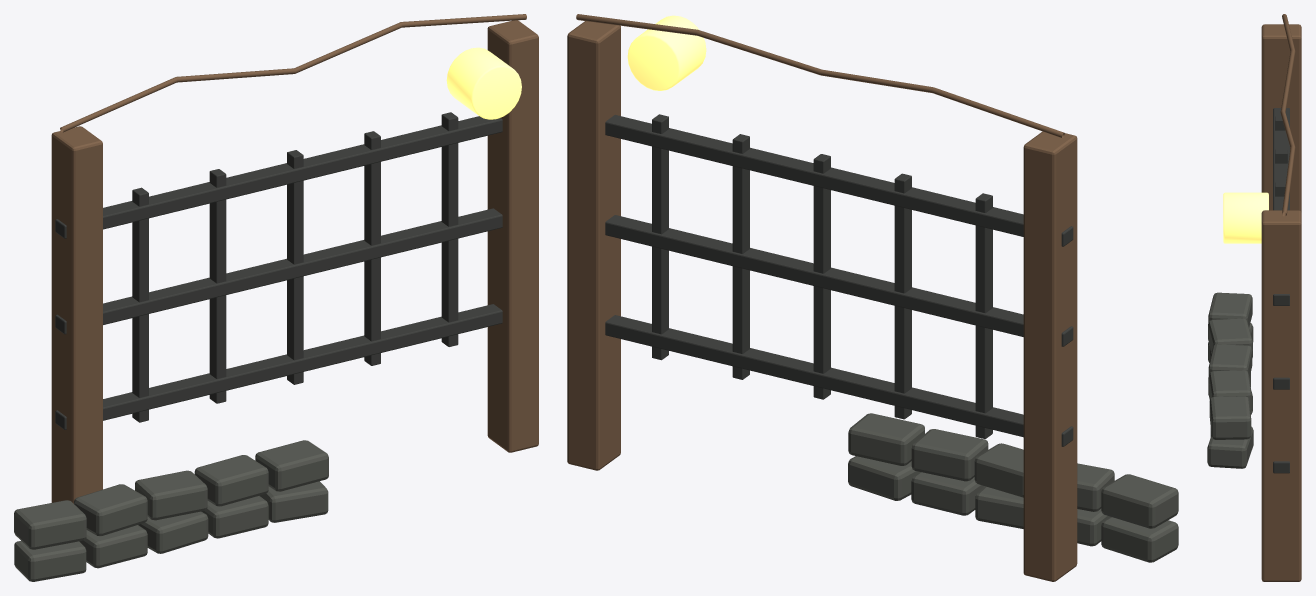
File: dz_military_checkpoint_gate.glb
3 renders of one model, left to right at view 1: azimuth 30°, elevation 25°; view 2: azimuth 150°, elevation 25°; view 3: azimuth 270°, elevation 25°, orthographic. The views are drawn at different scales.
Parts seen in each view (by area): view 1: checkpoint_right_post, checkpoint_left_post, sliding_gate_bar_1.55, sliding_gate_bar_0.9, sliding_gate_bar_2.2, checkpoint_sweeping_projector, vertical_gate_rod_4, vertical_gate_rod_1, vertical_gate_rod_2, vertical_gate_rod_0, vertical_gate_rod_3, barbed_wire_top (+10 smaller); view 2: checkpoint_left_post, checkpoint_right_post, sliding_gate_bar_2.2, sliding_gate_bar_0.9, sliding_gate_bar_1.55, checkpoint_sweeping_projector, vertical_gate_rod_3, vertical_gate_rod_1, vertical_gate_rod_2, vertical_gate_rod_0, barbed_wire_top, vertical_gate_rod_4 (+10 smaller); view 3: checkpoint_right_post, checkpoint_left_post, checkpoint_sweeping_projector, sandbag_gate_9, sandbag_gate_4, sliding_gate_bar_2.2, barbed_wire_top, sandbag_gate_6, sandbag_gate_7, sandbag_gate_5, sandbag_gate_8, sliding_gate_bar_0.9 (+3 smaller).
Boxes of the visible parts, left/top/right/bottom form: checkpoint_right_post: left=487, top=20, right=538, bottom=452; checkpoint_left_post: left=51, top=126, right=102, bottom=503; sliding_gate_bar_1.55: left=55, top=208, right=502, bottom=334; sliding_gate_bar_0.9: left=55, top=304, right=502, bottom=429; sliding_gate_bar_2.2: left=55, top=116, right=502, bottom=238; checkpoint_sweeping_projector: left=446, top=47, right=521, bottom=119; vertical_gate_rod_4: left=441, top=112, right=458, bottom=346; vertical_gate_rod_1: left=209, top=169, right=226, bottom=403; vertical_gate_rod_2: left=287, top=150, right=303, bottom=384; vertical_gate_rod_0: left=132, top=187, right=148, bottom=422; vertical_gate_rod_3: left=364, top=131, right=380, bottom=365; barbed_wire_top: left=60, top=14, right=526, bottom=132; checkpoint_left_post: left=1023, top=131, right=1077, bottom=581; checkpoint_right_post: left=567, top=21, right=620, bottom=470; sliding_gate_bar_2.2: left=605, top=115, right=1073, bottom=246; sliding_gate_bar_0.9: left=605, top=315, right=1073, bottom=446; sliding_gate_bar_1.55: left=605, top=215, right=1073, bottom=346; checkpoint_sweeping_projector: left=627, top=15, right=706, bottom=90; vertical_gate_rod_3: left=732, top=134, right=749, bottom=379; vertical_gate_rod_1: left=894, top=173, right=911, bottom=419; vertical_gate_rod_2: left=813, top=154, right=830, bottom=399; vertical_gate_rod_0: left=975, top=193, right=992, bottom=438; barbed_wire_top: left=576, top=14, right=1064, bottom=138; vertical_gate_rod_4: left=652, top=114, right=668, bottom=360; checkpoint_right_post: left=1261, top=210, right=1301, bottom=581; checkpoint_left_post: left=1261, top=24, right=1301, bottom=212; checkpoint_sweeping_projector: left=1223, top=192, right=1268, bottom=243; sandbag_gate_9: left=1209, top=396, right=1251, bottom=439; sandbag_gate_4: left=1207, top=426, right=1253, bottom=468; sliding_gate_bar_2.2: left=1273, top=108, right=1289, bottom=305; barbed_wire_top: left=1280, top=14, right=1295, bottom=216; sandbag_gate_6: left=1208, top=318, right=1252, bottom=357; sandbag_gate_7: left=1208, top=344, right=1252, bottom=384; sandbag_gate_5: left=1208, top=292, right=1252, bottom=327; sandbag_gate_8: left=1209, top=370, right=1251, bottom=411; sliding_gate_bar_0.9: left=1273, top=461, right=1289, bottom=473.
Bounding box in the file's own units: 3.83 × 3 × 0.6621.
